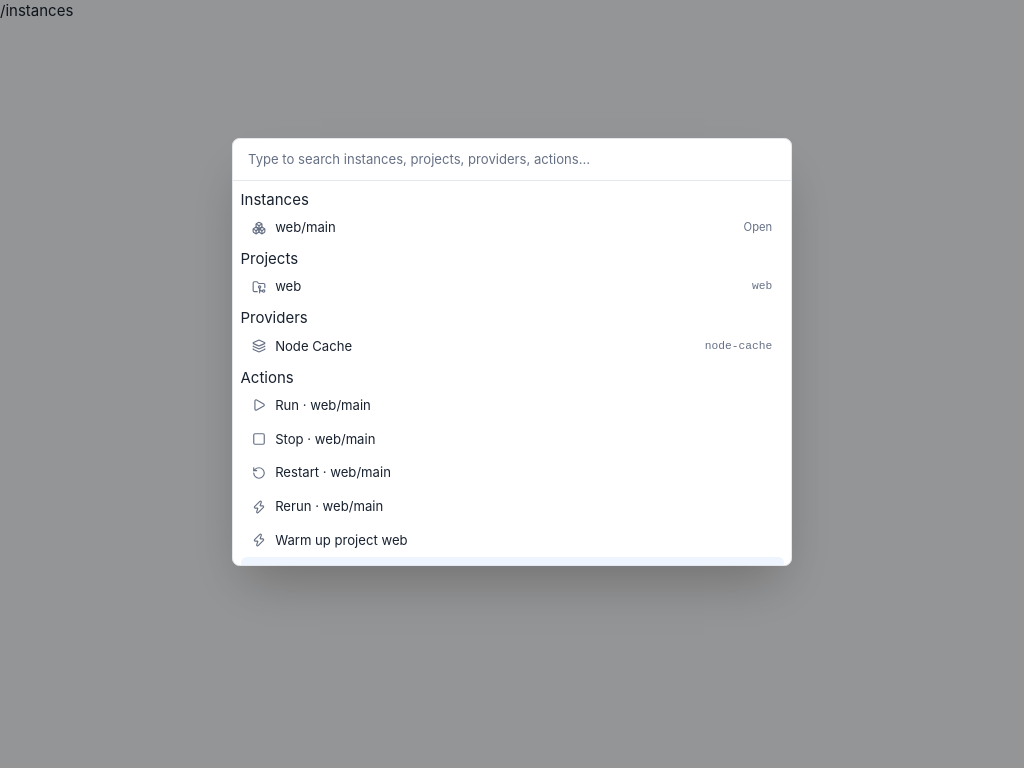
Test case: CommandPalette › jumps to an instance deep link, leaving builtins out of providers
The width and height of the screenshot is (1024, 768).
Click the text "web/main": click(305, 227) top-left (275, 219), bottom-right (336, 235)
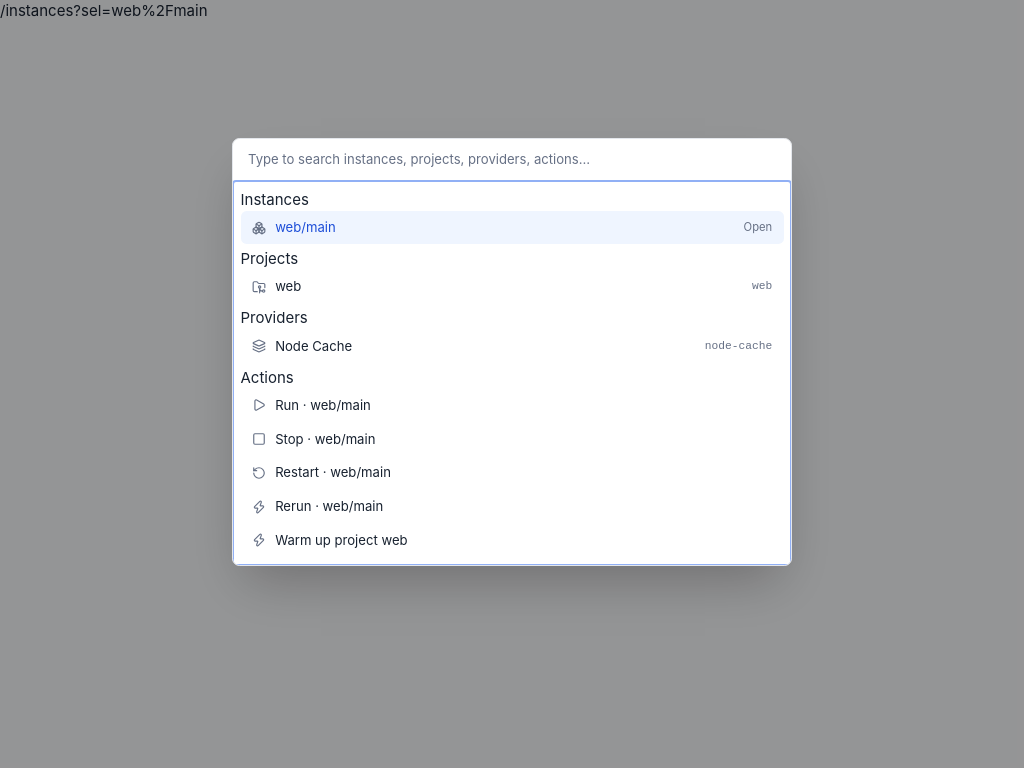
Now the text with test id "location" reads "/instances?sel=web%2Fmain", box top-left (0, 1), bottom-right (208, 20)
